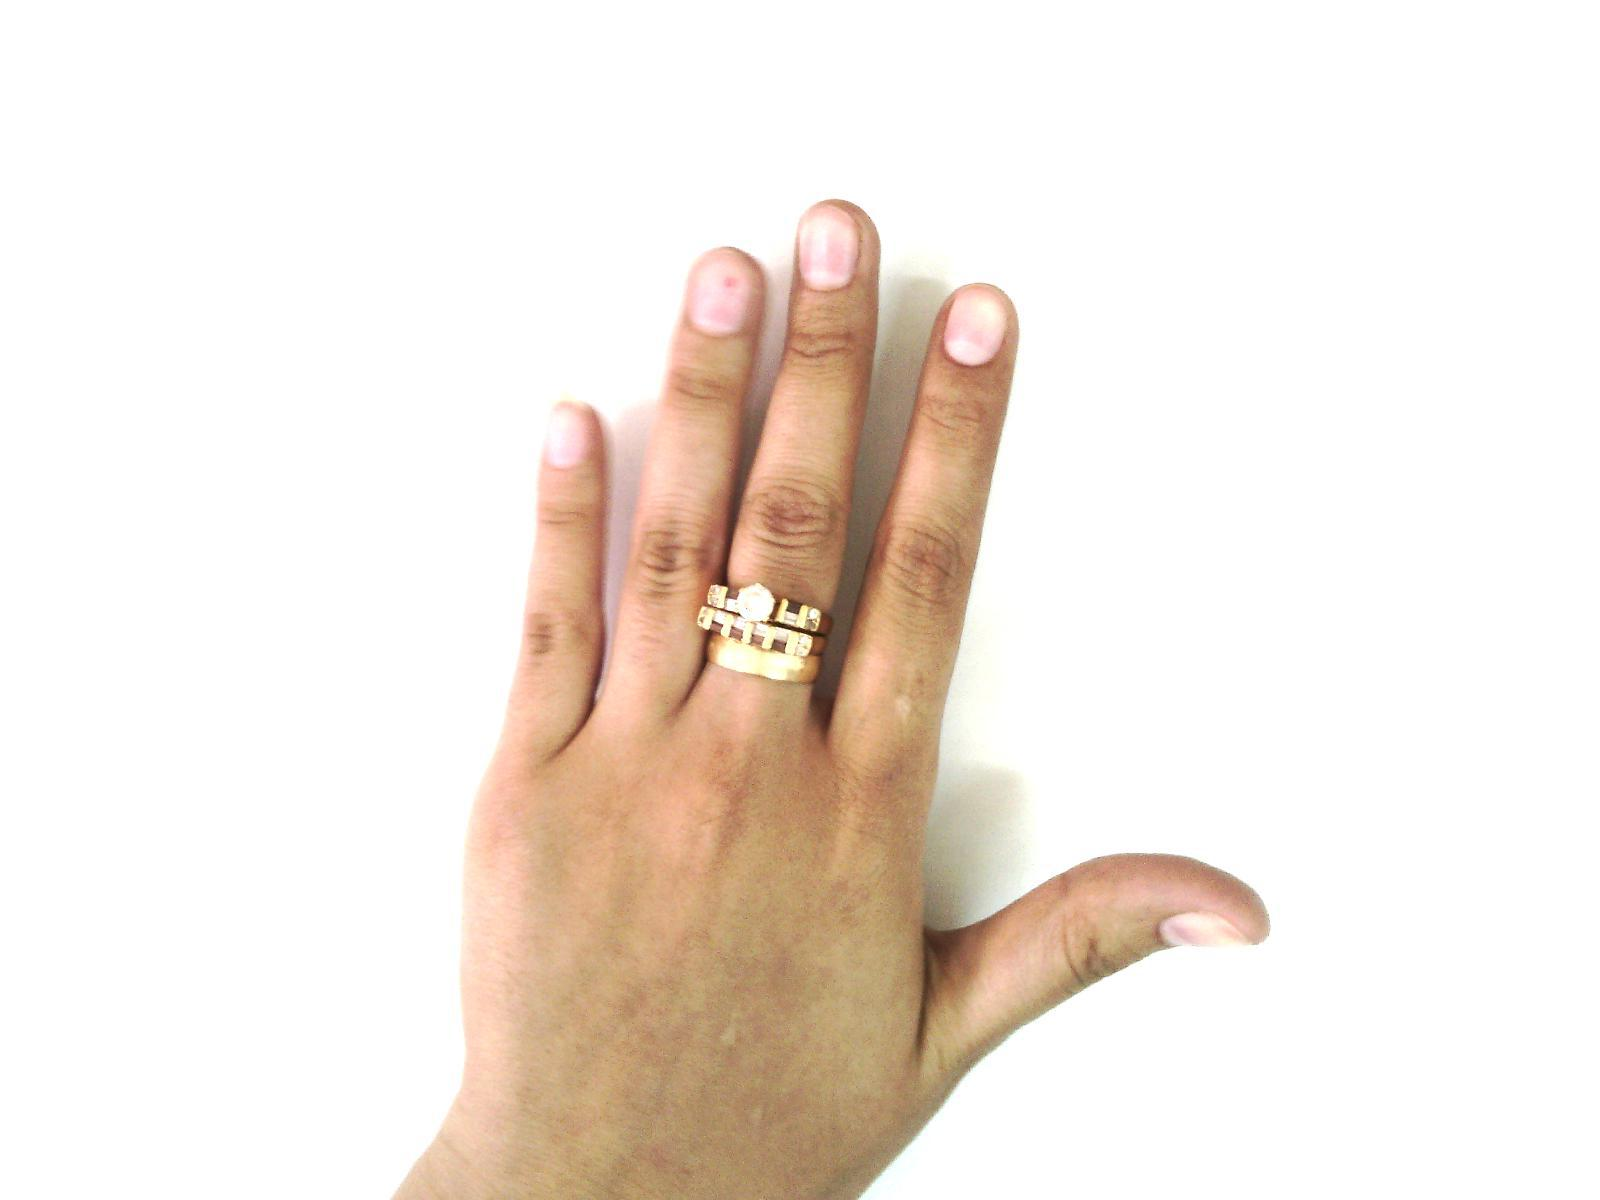hand: (430, 194, 1275, 1200)
